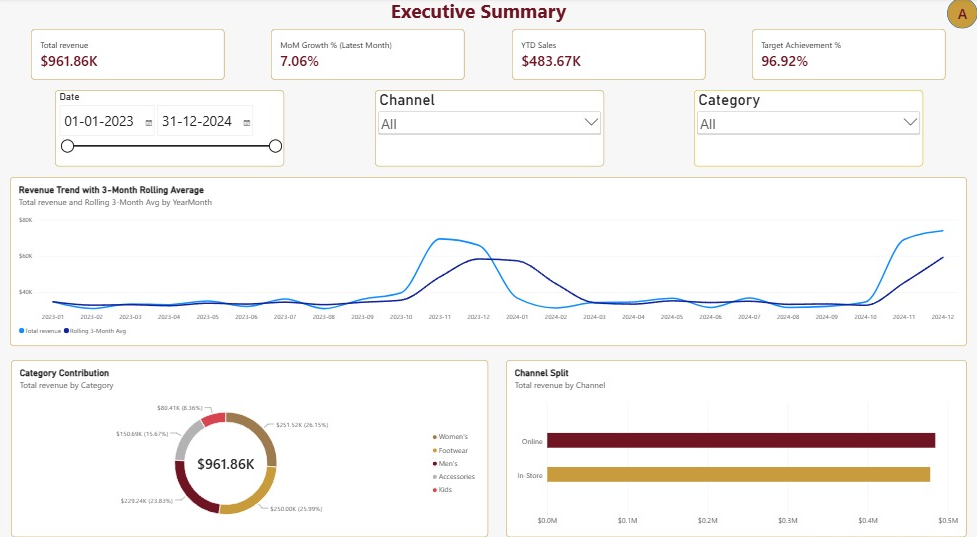

The page's visual inventory and layout, read from the dashboard file:
{"tool":"powerbi","page":{"name":"Executive Summary","canvas":[1920,1080],"ordinal":0},"visuals":[{"type":"cardVisual","fields":{"Data":["_Measures.YTD Sales"]},"box":[1004.7,60.9,380,100],"z":0},{"type":"cardVisual","fields":{"Data":["_Measures.MoM Growth % (Latest Month)"]},"box":[532.8,60.9,380,100],"z":1000},{"type":"cardVisual","fields":{"Data":["_Measures.Target Achievement %"]},"box":[1476.7,60.9,380,100],"z":2000},{"type":"cardVisual","fields":{"Data":["_Measures.Total revenue"]},"box":[60.9,60.9,380,100],"z":3000},{"type":"lineChart","title":"Revenue Trend with 3-Month Rolling Average","fields":{"Category":["DateTable.YearMonth"],"Y":["_Measures.Total revenue","_Measures.Rolling 3-Month Avg"]},"box":[19.6,351.5,1879.2,331.9],"z":4000},{"type":"donutChart","title":"Category Contribution","fields":{"Category":["Dim_Product.Category"],"Y":["_Measures.Total revenue"]},"box":[21.6,710.6,937.4,347.8],"z":5000},{"type":"clusteredBarChart","title":"Channel Split","fields":{"Category":["Fact_sales.Channel"],"Y":["_Measures.Total revenue"]},"box":[993.6,710.6,905,347.8],"z":6000},{"type":"slicer","fields":{"Values":["DateTable.Date"]},"box":[108,180.7,450,150],"z":8000},{"type":"slicer","fields":{"Values":["Dim_Category.Category"]},"box":[1362.8,180.7,450,150],"z":9000},{"type":"slicer","fields":{"Values":["Fact_sales.Channel"]},"box":[735.4,180.7,450,150],"z":10000},{"type":"shape","box":[1859.8,0,60,60],"z":11000},{"type":"textbox","title":"Designed & developed by Mirza Afzal Baig | Afzalytics","box":[1413.4,1062.3,506.6,17.7],"z":12000},{"type":"textbox","box":[21.9,0,1836.3,61.8],"z":12001}]}

Visuals, with their boxes in screenshot pixels (x1, y1, x2, y2), scaled from the page's 1920x1080 canvas onto the 977x537 screenshot:
cardVisual - _Measures.YTD Sales: rect(511, 30, 705, 80)
cardVisual - _Measures.MoM Growth % (Latest Month): rect(271, 30, 464, 80)
cardVisual - _Measures.Target Achievement %: rect(751, 30, 945, 80)
cardVisual - _Measures.Total revenue: rect(31, 30, 224, 80)
"Revenue Trend with 3-Month Rolling Average" lineChart: rect(10, 175, 966, 340)
"Category Contribution" donutChart: rect(11, 353, 488, 526)
"Channel Split" clusteredBarChart: rect(506, 353, 966, 526)
slicer - DateTable.Date: rect(55, 90, 284, 164)
slicer - Dim_Category.Category: rect(693, 90, 922, 164)
slicer - Fact_sales.Channel: rect(374, 90, 603, 164)
shape: rect(946, 0, 976, 30)
"Designed & developed by Mirza Afzal Baig | Afzalytics" textbox: rect(719, 528, 976, 536)
textbox: rect(11, 0, 946, 31)
